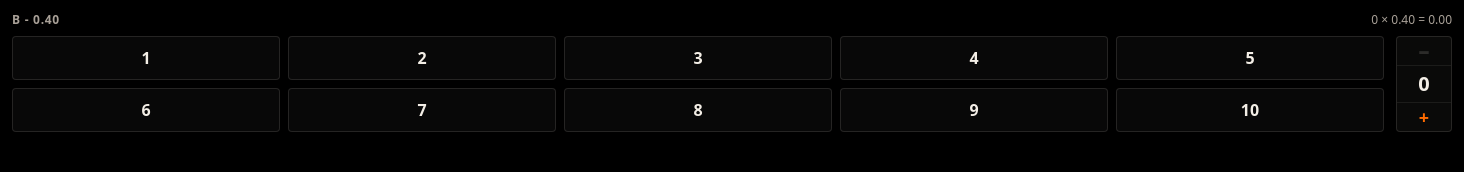
DifficultyPicker › one tap on a number sets the count, and marks it chosen
Click the button "6" at (146,110), box [12, 88, 280, 132]
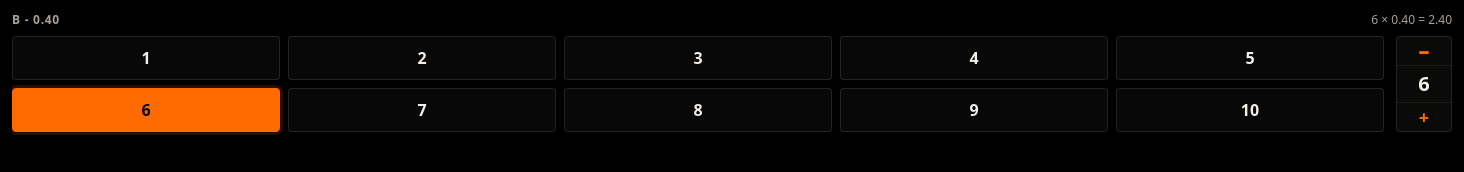
Expected: the text "6 × 0.40 = 2.40" is shown, [1371, 12, 1452, 28]
